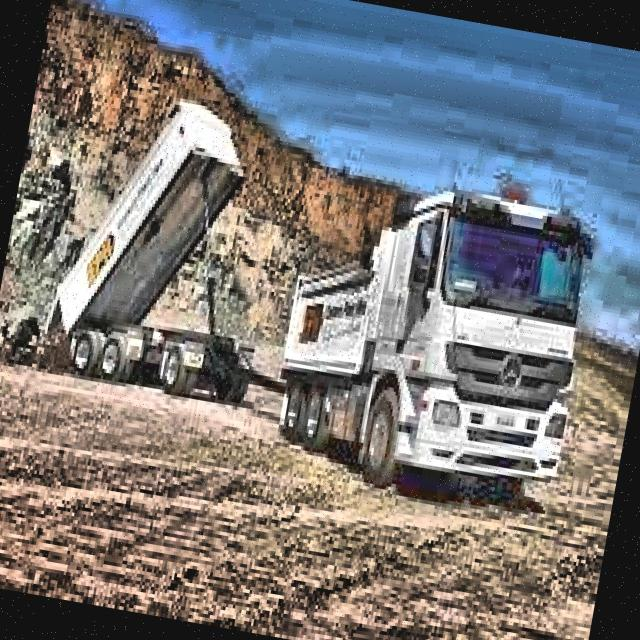dump_truck: (254, 157, 610, 511)
